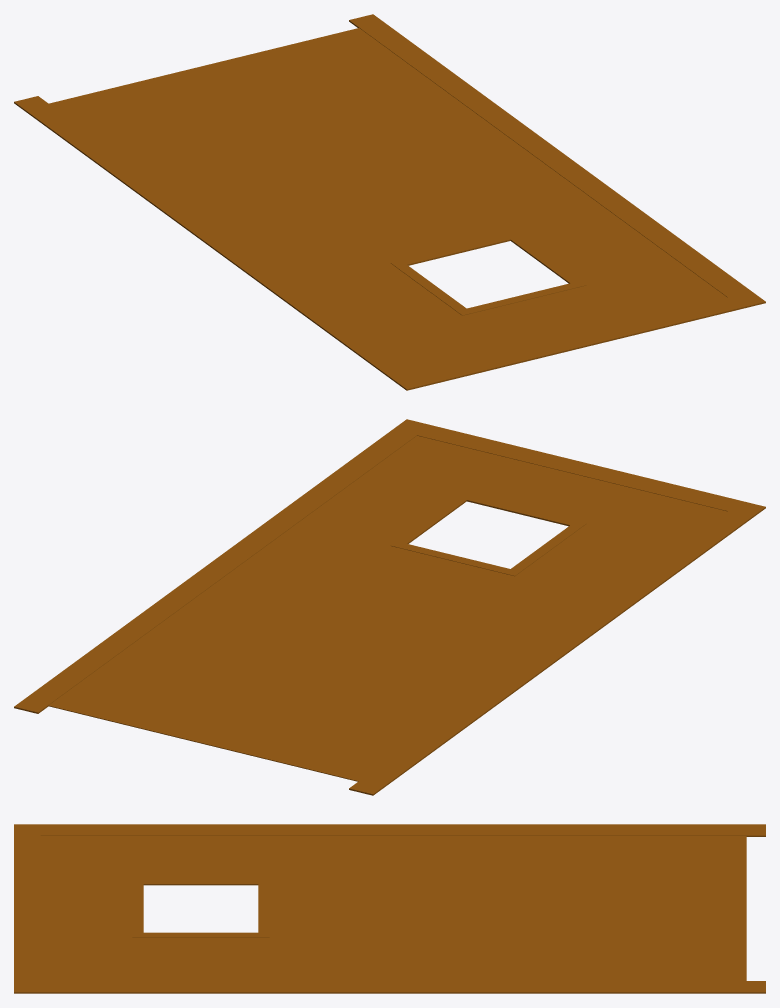
Rendered from Door.obj.
The picture shows the model from 3 angles, top to bottom: view 1: azimuth 30°, elevation 25°; view 2: azimuth 150°, elevation 25°; view 3: azimuth 270°, elevation 25°; orthographic projection. The views are drawn at different scales.
Visible parts, largest first — view 1: mesh54, mesh5, mesh34; view 2: mesh54, mesh5, mesh34; view 3: mesh54, mesh5, mesh34, mesh8, mesh12, mesh2.
Part boxes in pixels (left/top/right/bottom): mesh54: left=49, top=28, right=726, bottom=372; mesh5: left=14, top=14, right=765, bottom=389; mesh34: left=391, top=232, right=586, bottom=315; mesh54: left=48, top=435, right=726, bottom=781; mesh5: left=14, top=419, right=765, bottom=794; mesh34: left=391, top=493, right=586, bottom=575; mesh54: left=40, top=836, right=746, bottom=980; mesh5: left=14, top=824, right=765, bottom=992; mesh34: left=132, top=879, right=269, bottom=937; mesh8: left=14, top=992, right=765, bottom=992; mesh12: left=14, top=993, right=765, bottom=993; mesh2: left=41, top=835, right=765, bottom=836.
Size of the model in its own units: 1.04 by 0.004 by 1.97.
